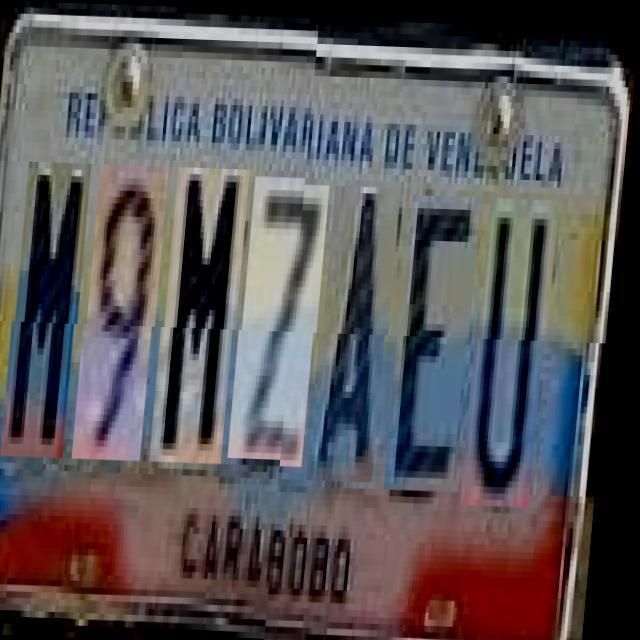9: (82, 170, 172, 466)
A: (318, 183, 404, 479)
E: (396, 192, 484, 488)
M: (160, 172, 252, 468), (11, 168, 94, 464)
U: (472, 194, 562, 503)
Z: (238, 180, 332, 464)
